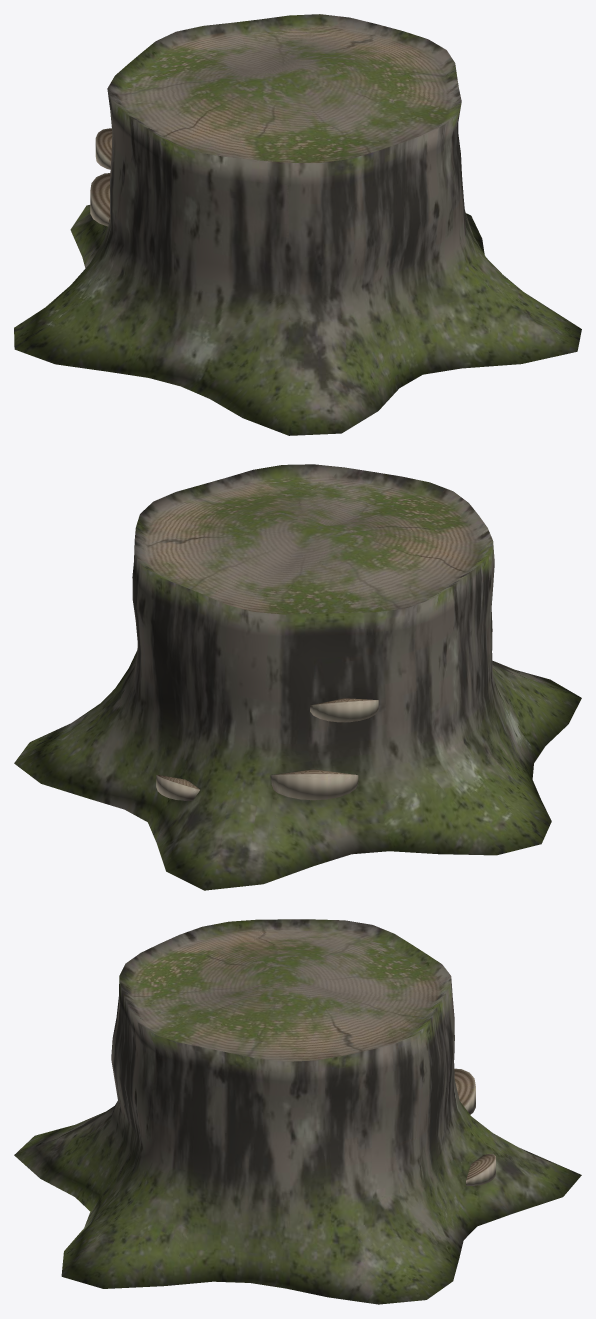
Rendered from parez_2.glb.
The picture shows the model from 3 angles, top to bottom: view 1: azimuth 30°, elevation 25°; view 2: azimuth 150°, elevation 25°; view 3: azimuth 270°, elevation 25°; orthographic projection. The views are drawn at different scales.
Parts seen in each view (by area): view 1: parez_2; view 2: parez_2; view 3: parez_2.
Part boxes in pixels (x1,y1,x2,y2): parez_2: [14, 14, 581, 435]; parez_2: [14, 464, 581, 890]; parez_2: [14, 919, 581, 1304].
Size of the model in its own units: 1.26 by 0.58 by 1.36.
1 material, 1 textured.
